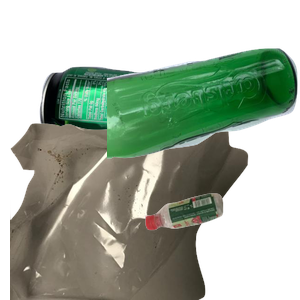glass: (107, 46, 300, 197)
metal: (37, 64, 245, 214)
plastic: (142, 191, 300, 300)
trash: (10, 120, 250, 300)
